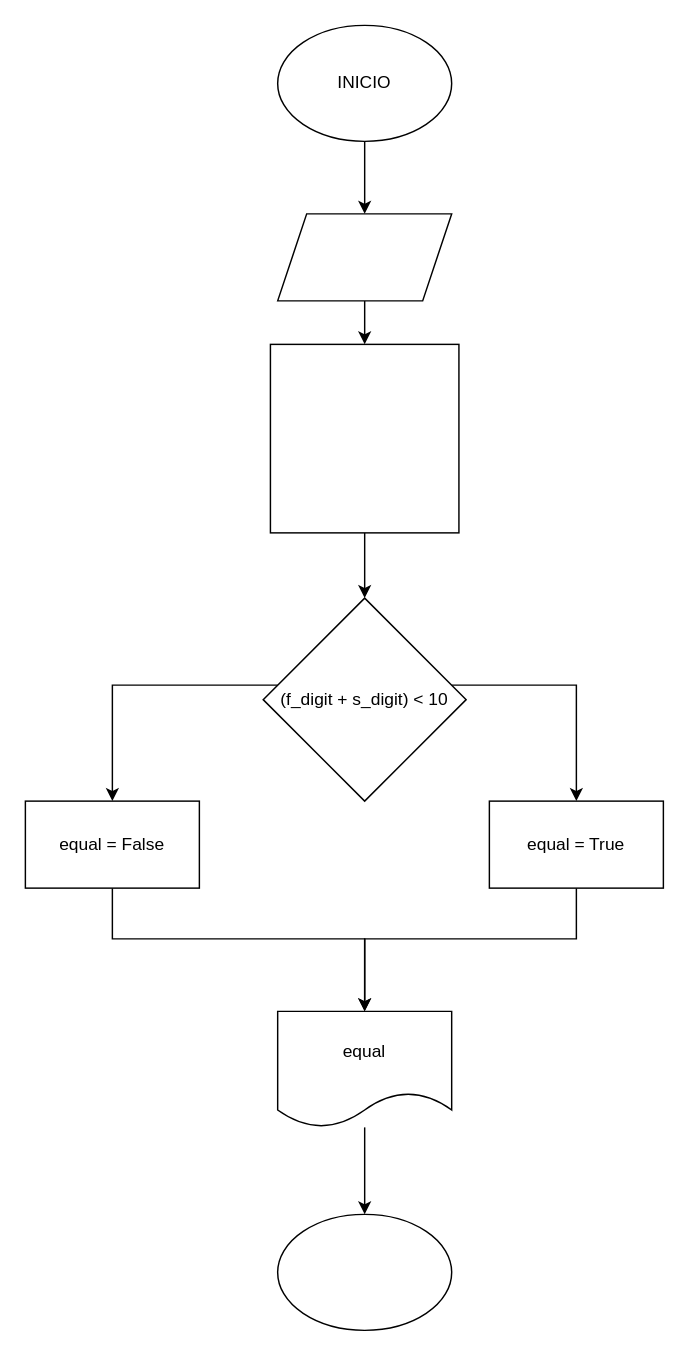
The diagram is 689 pixels wide and 1356 high, and some of its shapes have lost their labels. Each missing label, with the centre of its shape:
FIN: the point at 364,1271
number: the point at 364,256
number %= 100 f_digit = number // 10 s_digit = number % 10: the point at 364,438
